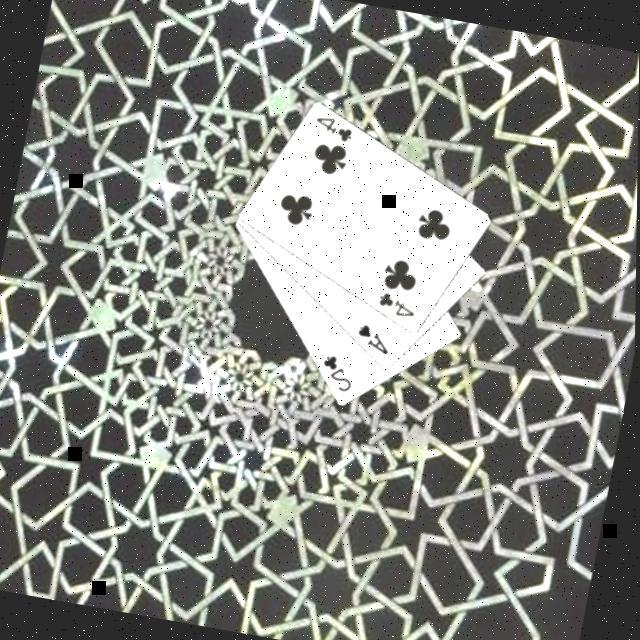2C: (314, 348, 360, 394)
4C: (309, 109, 357, 144), (373, 286, 421, 320)
AS: (351, 317, 396, 356)
